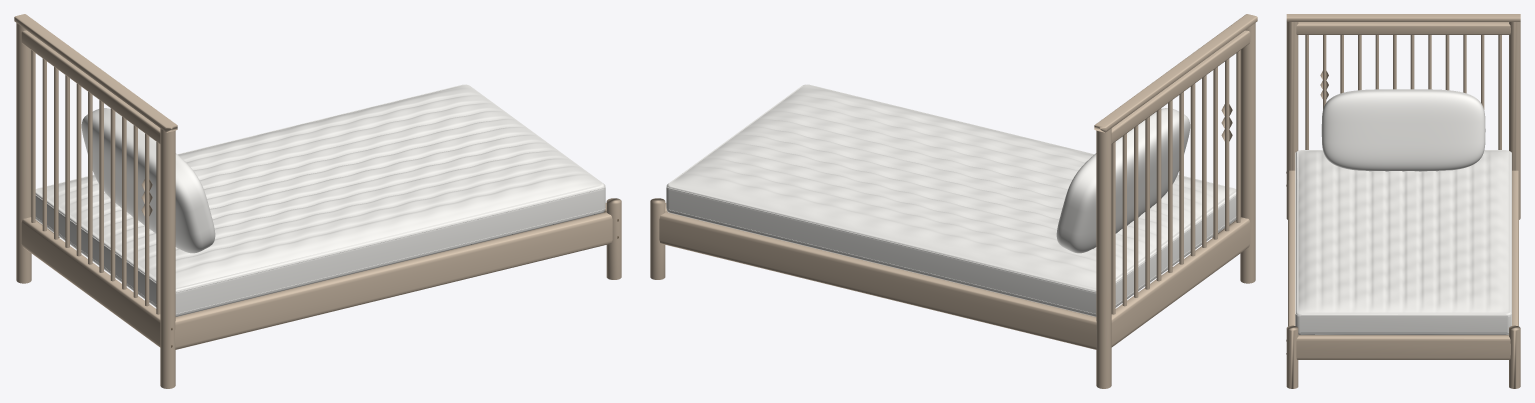
The model's file is bling3_beige_youth.glb.
The picture shows the model from 3 angles, left to right: view 1: azimuth 30°, elevation 25°; view 2: azimuth 150°, elevation 25°; view 3: azimuth 270°, elevation 25°; orthographic projection. The views are drawn at different scales.
Visible parts, largest first — view 1: White lengthwise channel quilted comforter, Fitted ivory mattress covering bed deck 2000 x 1110 x 120 mm, Solid long base rail, Rounded bed post (×3), Soft white rectangular pillow, End base rail, Head floating crown, Head upper cross rail, Mattress piping (×2), Head vertical spindle 07, Head vertical spindle 04, Head vertical spindle 01 (+9 smaller); view 2: White lengthwise channel quilted comforter, Fitted ivory mattress covering bed deck 2000 x 1110 x 120 mm, Solid long base rail, Rounded bed post (×3), Soft white rectangular pillow, End base rail, Head floating crown, Head upper cross rail, Mattress piping (×2), Head vertical spindle 04, Head vertical spindle 07, Head vertical spindle 10 (+9 smaller); view 3: White lengthwise channel quilted comforter, Soft white rectangular pillow, Fitted ivory mattress covering bed deck 2000 x 1110 x 120 mm, End base rail, Rounded bed post (×4), Head upper cross rail, Solid long base rail (×2), Head floating crown, Mattress piping (×2), Head vertical spindle 00, Head vertical spindle 11, Head vertical spindle 01 (+9 smaller).
Part boxes in pixels (x1,y1,x2,y2): White lengthwise channel quilted comforter: (36,84,601,287); Fitted ivory mattress covering bed deck 2000 x 1110 x 120 mm: (35,84,605,316); Solid long base rail: (175,212,612,349); Rounded bed post (×3): (16,23,621,388); Soft white rectangular pillow: (81,108,215,253); End base rail: (21,217,160,347); Head floating crown: (14,14,177,132); Head upper cross rail: (21,30,160,143); Mattress piping (×2): (35,184,605,314); Head vertical spindle 07: (110,108,115,281); Head vertical spindle 04: (76,83,81,256); Head vertical spindle 01: (42,58,46,231); White lengthwise channel quilted comforter: (670,84,1235,287); Fitted ivory mattress covering bed deck 2000 x 1110 x 120 mm: (666,84,1236,316); Solid long base rail: (659,212,1096,349); Rounded bed post (×3): (650,23,1255,388); Soft white rectangular pillow: (1056,108,1190,253); End base rail: (1111,217,1250,347); Head floating crown: (1094,14,1257,132); Head upper cross rail: (1111,30,1250,143); Mattress piping (×2): (666,184,1236,314); Head vertical spindle 04: (1156,108,1161,281); Head vertical spindle 07: (1190,83,1195,256); Head vertical spindle 10: (1225,58,1229,231); White lengthwise channel quilted comforter: (1298,150,1508,312); Soft white rectangular pillow: (1321,89,1485,171); Fitted ivory mattress covering bed deck 2000 x 1110 x 120 mm: (1295,150,1511,334); End base rail: (1296,335,1510,359); Rounded bed post (×4): (1286,22,1520,388); Head upper cross rail: (1296,22,1510,34); Solid long base rail (×2): (1288,170,1518,326); Head floating crown: (1286,14,1520,21); Mattress piping (×2): (1295,152,1511,332); Head vertical spindle 00: (1498,35,1501,149); Head vertical spindle 11: (1305,35,1308,149); Head vertical spindle 01: (1481,35,1484,109).
Bounding box in the file's own units: 2.1 × 1.15 × 1.2.
